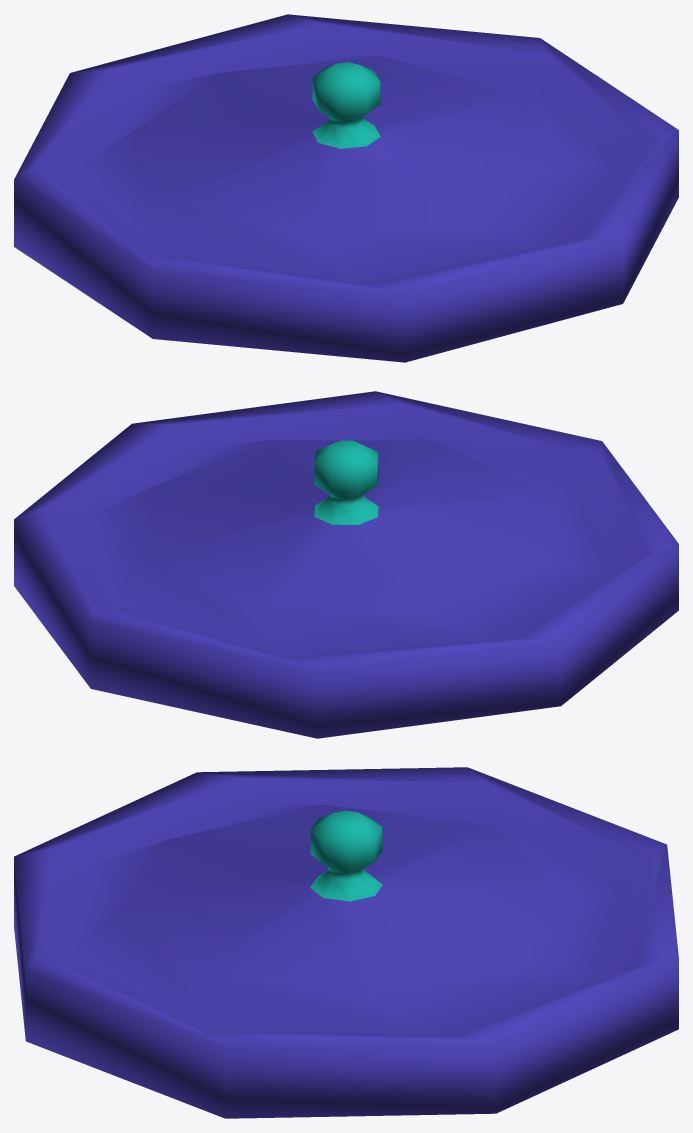
File: maintable.fbx
3 views of the same model, one above another, from view 1: azimuth 30°, elevation 25°; view 2: azimuth 150°, elevation 25°; view 3: azimuth 270°, elevation 25° (orthographic). The views are drawn at different scales.
Parts seen in each view (by area): view 1: MainTable; view 2: MainTable; view 3: MainTable.
Boxes of the visible parts, box(x1,y1,x2,y2) form: MainTable: box(14, 14, 678, 362); MainTable: box(14, 391, 678, 738); MainTable: box(14, 767, 678, 1118).
Bounding box in the file's own units: 326 × 113 × 326.
